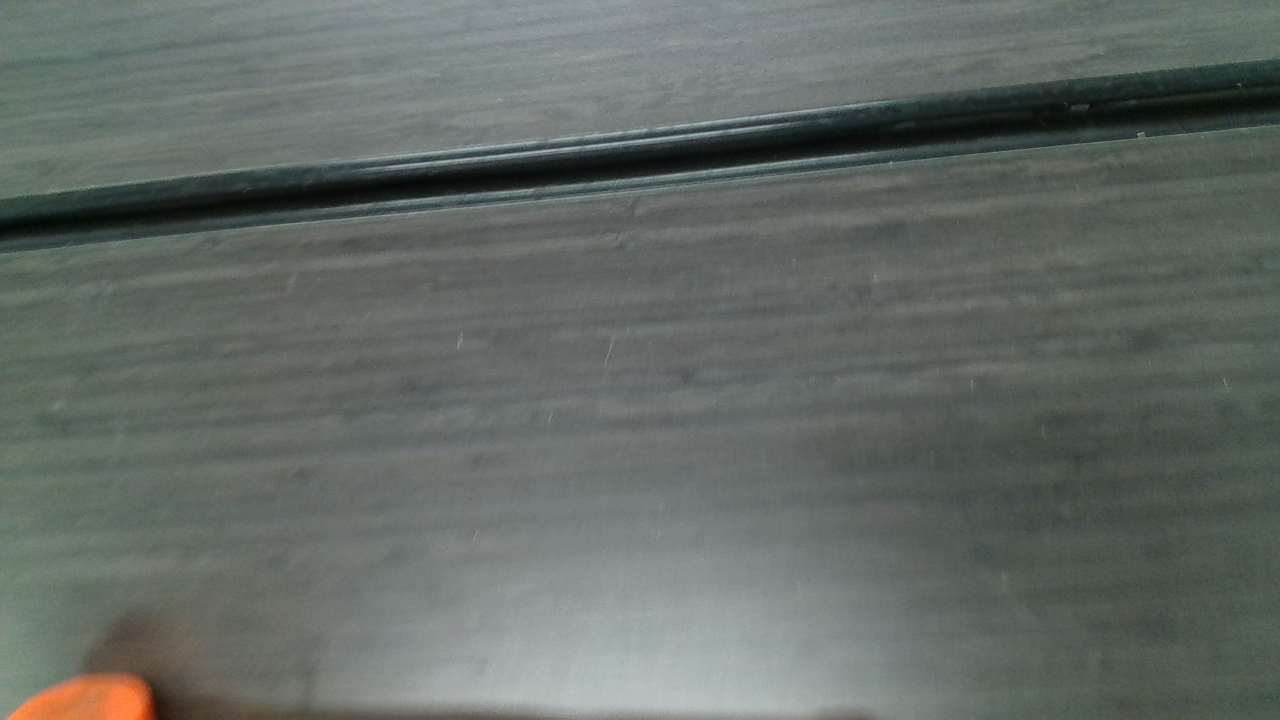Orange Hammer: (0, 674, 163, 720)
